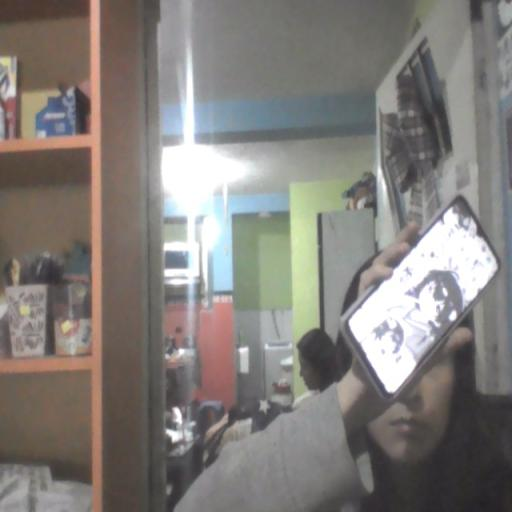phone: (336, 180, 506, 406)
